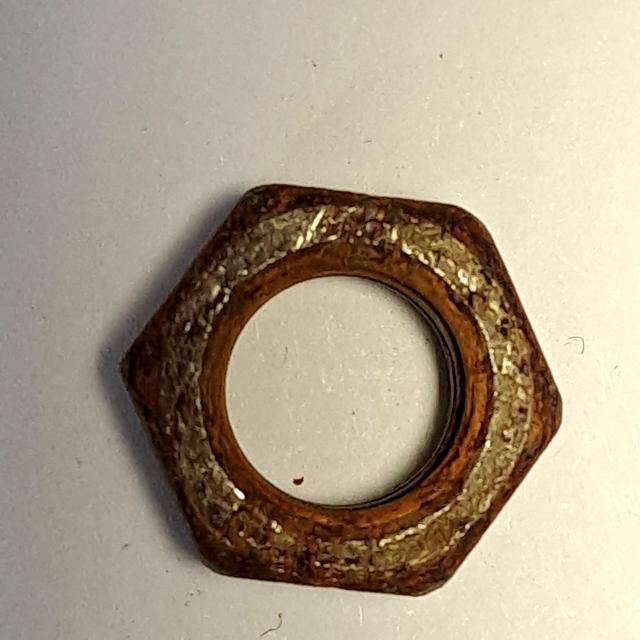Rust: (111, 169, 577, 611)
